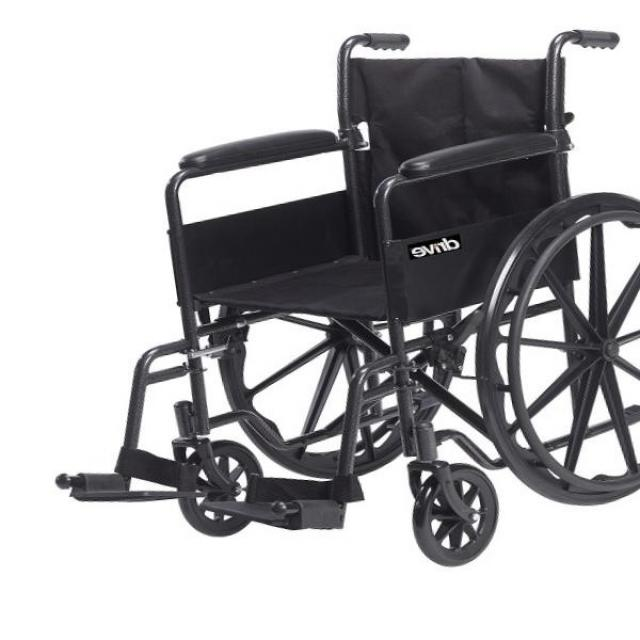wheelchair: (42, 26, 640, 581)
